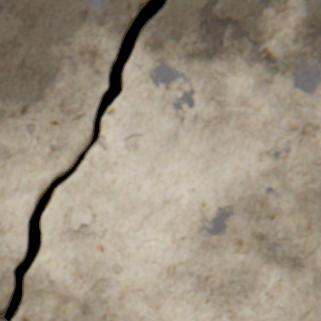broken_brick: (11, 0, 320, 320), (0, 0, 148, 310)
crack: (0, 0, 165, 320)
